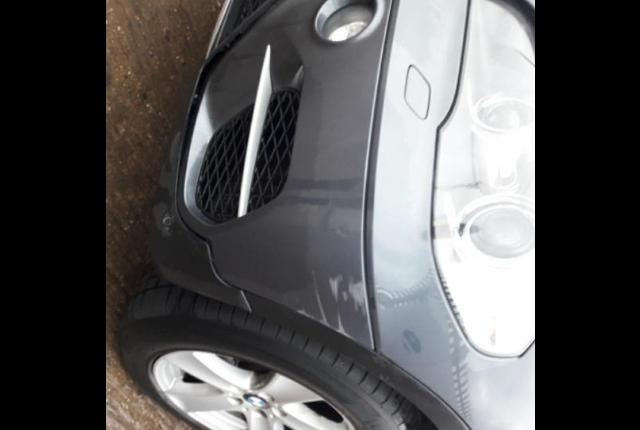Scratch: (294, 269, 368, 342)
